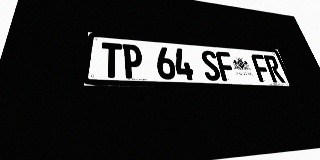4: (173, 48, 194, 80)
6: (155, 46, 177, 80)
F: (215, 51, 237, 81), (250, 54, 273, 82)
P: (122, 44, 143, 79)
R: (263, 55, 285, 83)
S: (200, 50, 222, 81)
T: (100, 42, 122, 78)
